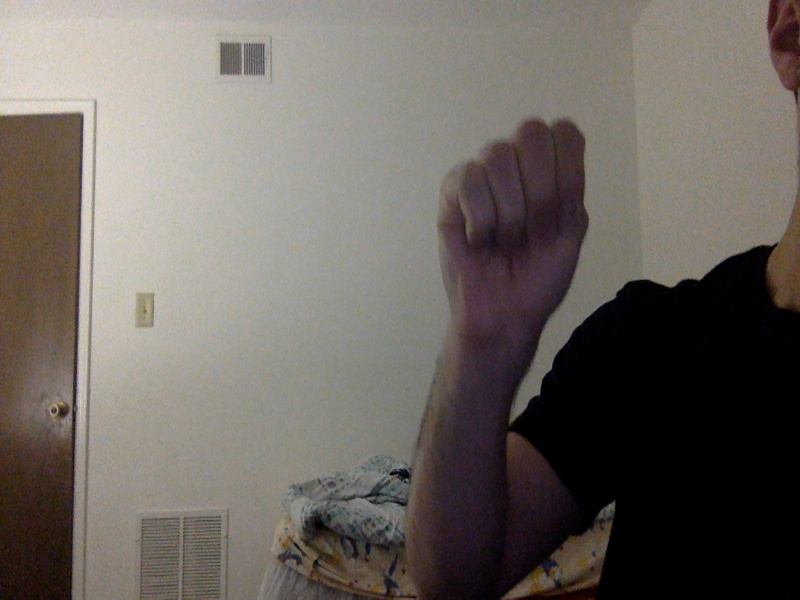0-hand: (436, 116, 589, 374)
